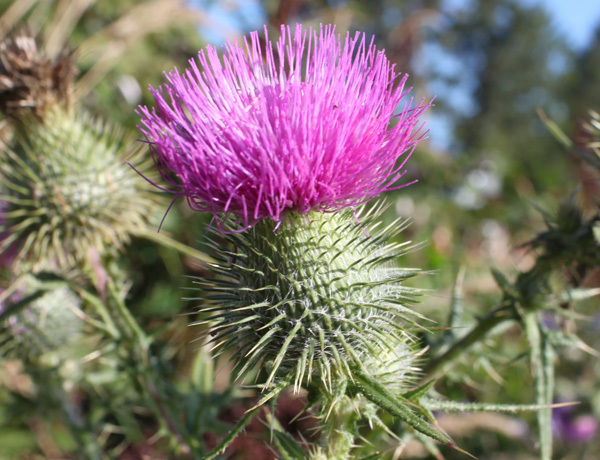bull thistle: (125, 20, 437, 401)
